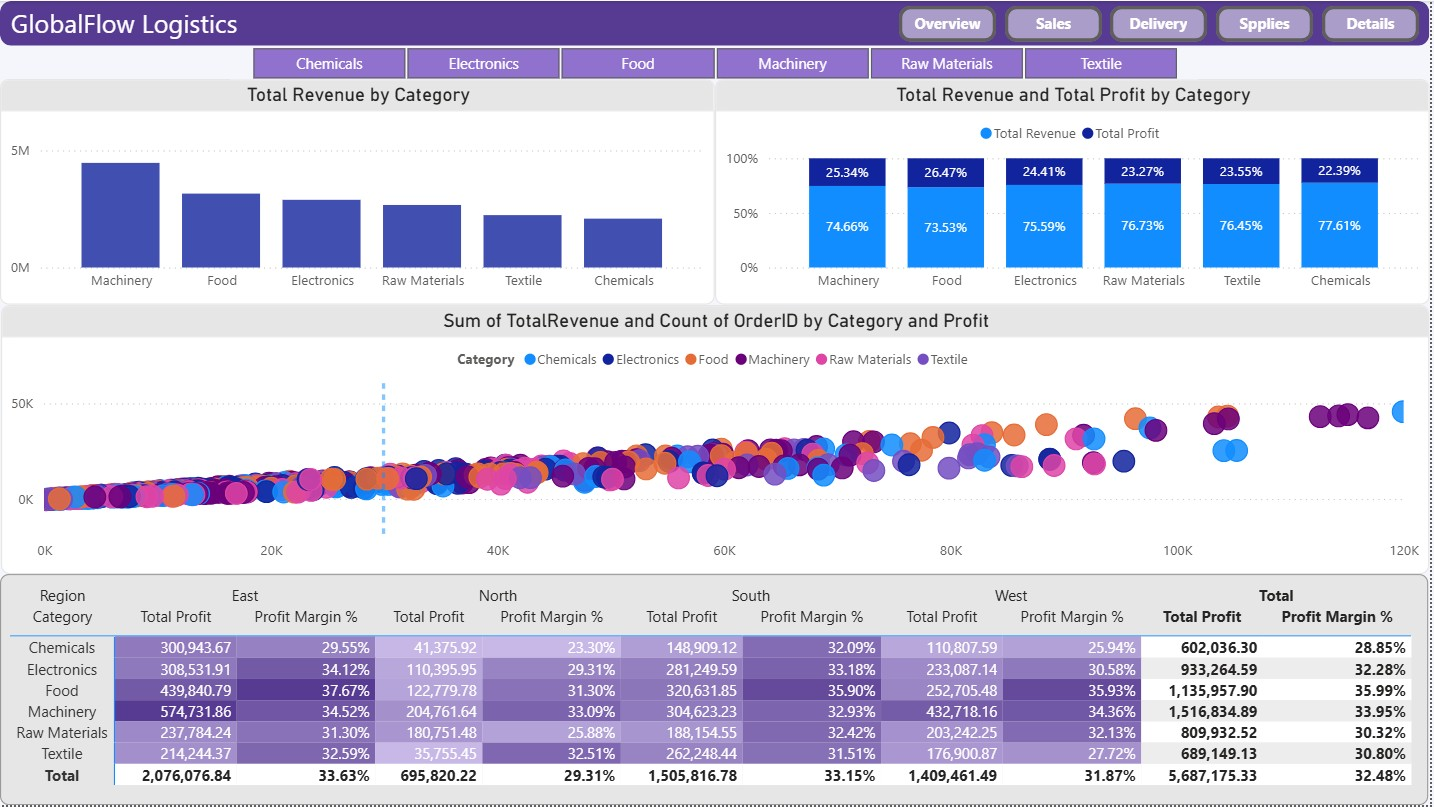

This screenshot's page, from the dashboard's own definition file:
{"tool":"powerbi","page":{"name":"Sales & Profit","canvas":[1280,720],"ordinal":1},"visuals":[{"type":"shape","title":"GlobalFlow Logistics","box":[0,0,1280,40],"z":0},{"type":"actionButton","box":[805.1,4.4,86.9,31.9],"z":1000},{"type":"actionButton","box":[899.7,4.4,86.9,31.9],"z":2000},{"type":"actionButton","box":[994.3,4.4,86.9,31.9],"z":3000},{"type":"actionButton","box":[1088.9,4.4,86.9,31.9],"z":4000},{"type":"actionButton","box":[1183.7,4.4,86.9,31.9],"z":5000},{"type":"clusteredColumnChart","fields":{"Y":["_Measures.Total Revenue"],"Category":["Products.Category"]},"box":[0,70,640,201.8],"z":6000},{"type":"pivotTable","fields":{"Rows":["Products.Category"],"Columns":["Suppliers.Region"],"Values":["_Measures.Total Profit","_Measures.Profit Margin %"]},"box":[0,512.7,1279.1,207.3],"z":7000},{"type":"scatterChart","fields":{"Size":["CountNonNull(Orders.OrderID)"],"Y":["Orders.Profit"],"X":["Sum(Orders.TotalRevenue)"],"Series":["Products.Category"]},"box":[0.9,271.8,1279.1,240.9],"z":8000},{"type":"hundredPercentStackedColumnChart","fields":{"Y":["_Measures.Total Revenue","_Measures.Total Profit"],"Category":["Products.Category"]},"box":[640,70,640,201.8],"z":9000},{"type":"slicer","fields":{"Values":["Products.Category"]},"box":[206.4,40,867.3,30],"z":10000}]}

Visuals, with their boxes in screenshot pixels (x1, y1, x2, y2), scaled from the page's 1280x720 canvas onto the 1434x807 screenshot:
"GlobalFlow Logistics" shape: x1=0, y1=0, x2=1433, y2=45
actionButton: x1=902, y1=5, x2=999, y2=41
actionButton: x1=1008, y1=5, x2=1105, y2=41
actionButton: x1=1114, y1=5, x2=1211, y2=41
actionButton: x1=1220, y1=5, x2=1317, y2=41
actionButton: x1=1326, y1=5, x2=1423, y2=41
clusteredColumnChart - _Measures.Total Revenue x Products.Category: x1=0, y1=78, x2=717, y2=305
pivotTable - Products.Category x Suppliers.Region: x1=0, y1=575, x2=1433, y2=806
scatterChart - CountNonNull(Orders.OrderID) x Orders.Profit: x1=1, y1=305, x2=1433, y2=575
hundredPercentStackedColumnChart - _Measures.Total Revenue x _Measures.Total Profit: x1=717, y1=78, x2=1433, y2=305
slicer - Products.Category: x1=231, y1=45, x2=1203, y2=78
